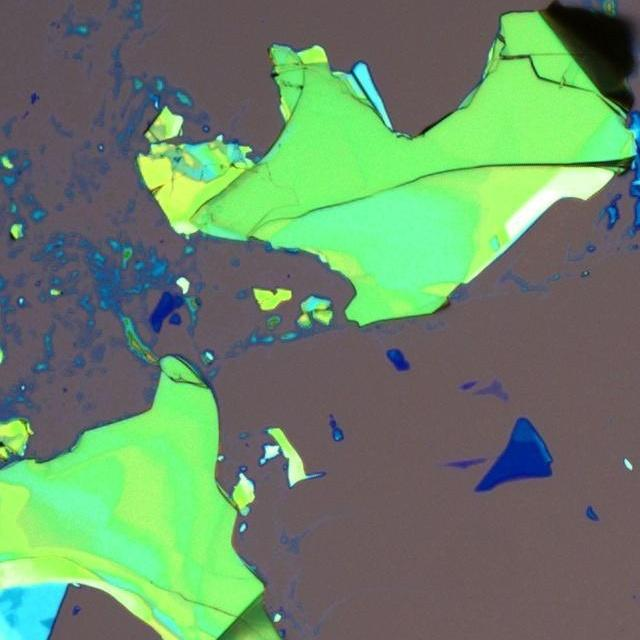monolayer-eWW4: (472, 377, 510, 403)
